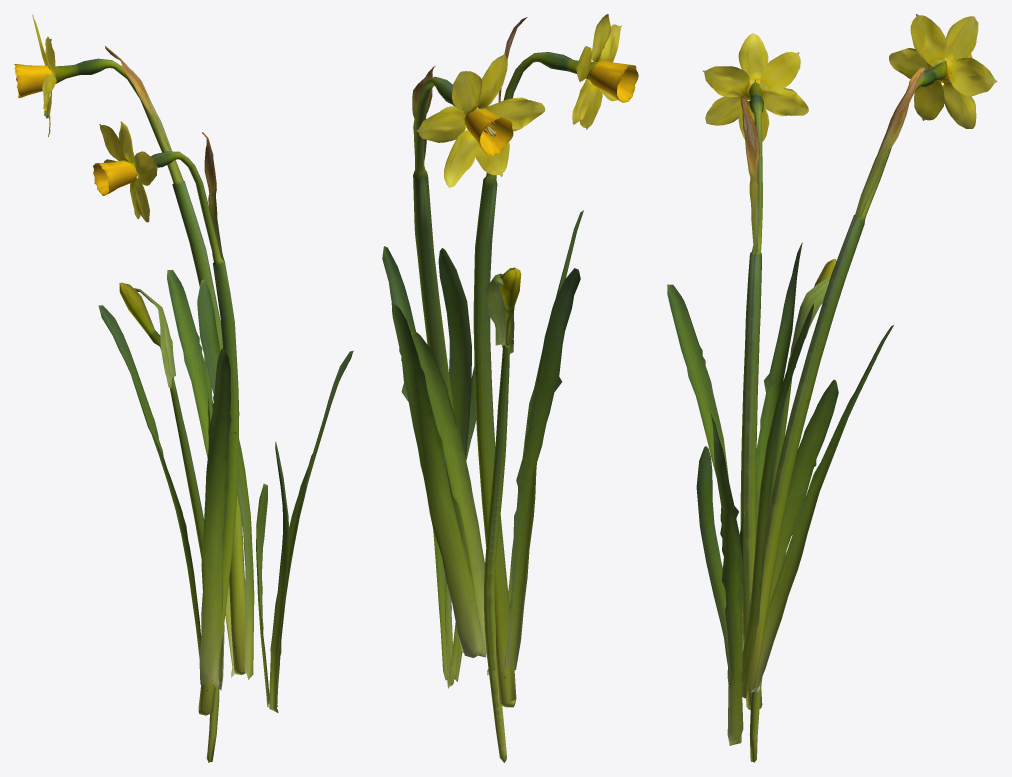
The model's file is ST-大水仙花.fbx.
3 views of the same model, side by side, from view 1: azimuth 30°, elevation 25°; view 2: azimuth 150°, elevation 25°; view 3: azimuth 270°, elevation 25° (orthographic). The views are drawn at different scales.
Parts seen in each view (by area): view 1: ST-大水仙花; view 2: ST-大水仙花; view 3: ST-大水仙花.
Part boxes in pixels (box(x1,y1,x2,y2)): ST-大水仙花: box(14, 14, 353, 762); ST-大水仙花: box(382, 14, 638, 762); ST-大水仙花: box(667, 14, 997, 762).
Bounding box in the file's own units: 0.1074 × 0.1274 × 0.3023.
